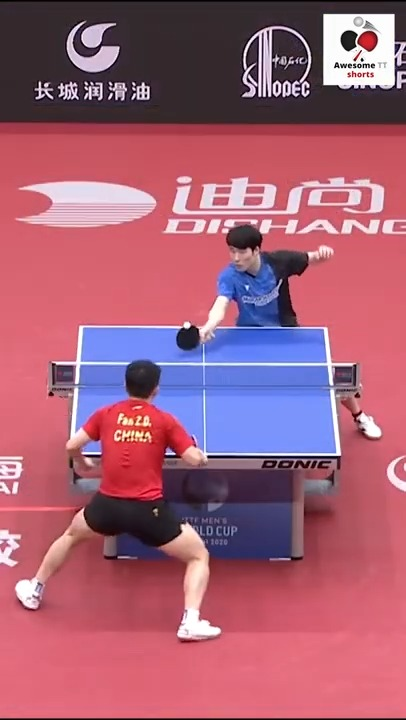Ball: (183, 320, 191, 329)
